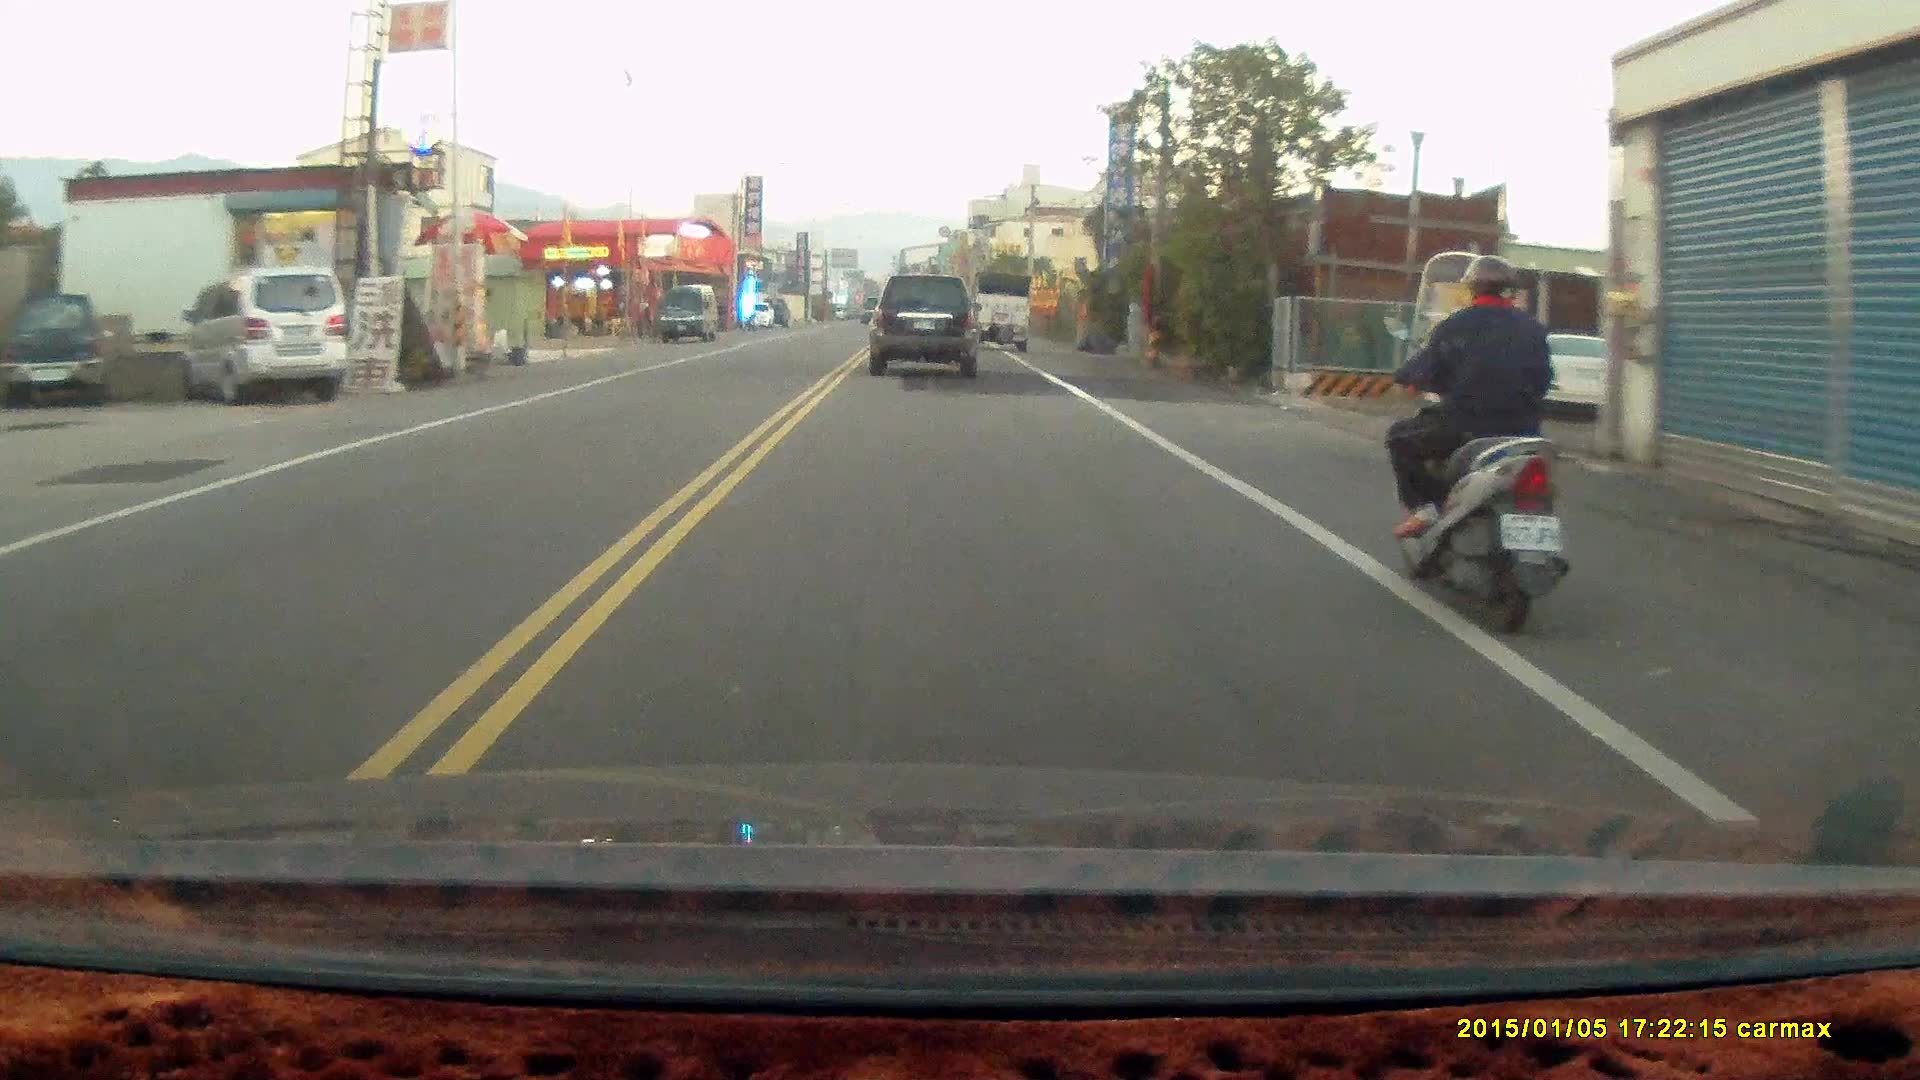rider: (1380, 251, 1569, 640)
vehicle: (182, 265, 353, 410), (5, 295, 112, 410), (870, 274, 981, 378), (972, 273, 1034, 353), (660, 285, 719, 346)
